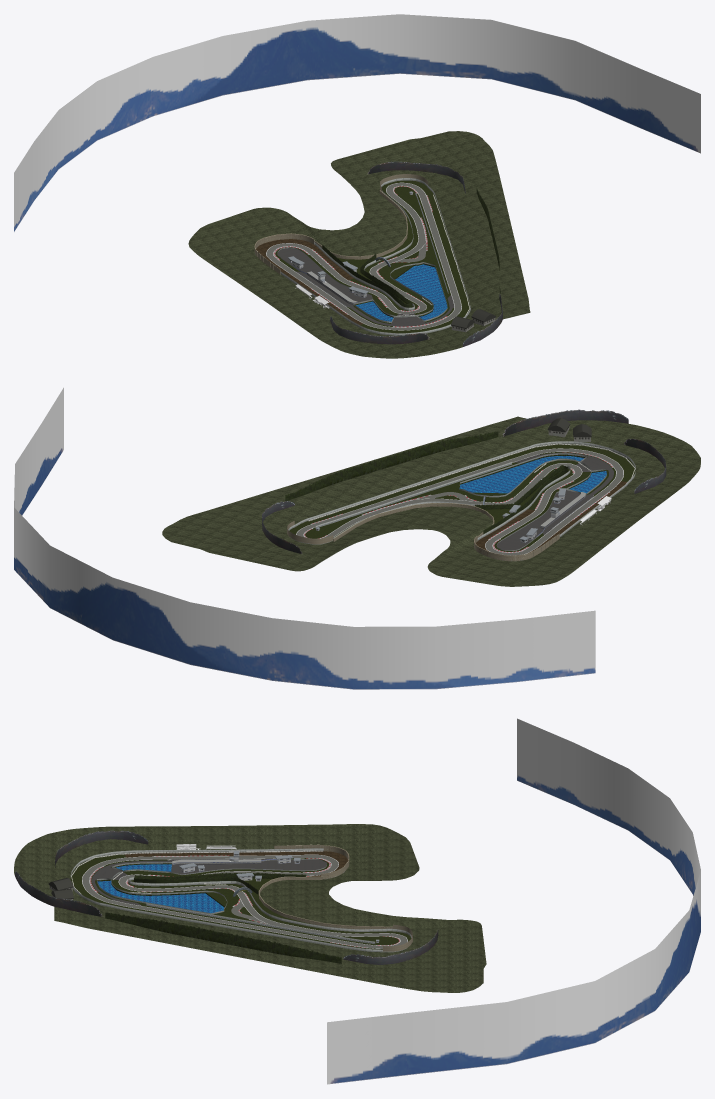
The model's file is TSUKUBATOURING.dae.
3 renders of one model, top to bottom at view 1: azimuth 30°, elevation 25°; view 2: azimuth 150°, elevation 25°; view 3: azimuth 270°, elevation 25°, orthographic. The views are drawn at different scales.
Visible parts, largest first — view 1: Mountain, g.007, g, inner, g.002, bounds, r, bounds.003, Fences, g.012, Mountain.001, g.006 (+4 smaller); view 2: Mountain, g.007, g, inner, g.009, g.002, bounds.003, bounds, Fences, g.008, r, g.006 (+6 smaller); view 3: Mountain, g.007, g, inner, g.009, bounds, Fences, g.002, bounds.003, r, Mountain.002, g.006 (+4 smaller).
Part boxes in pixels (x1,y1,x2,y2): Mountain: [14, 14, 700, 231]; g.007: [188, 131, 530, 358]; g: [275, 180, 470, 333]; inner: [266, 183, 461, 330]; g.002: [356, 264, 447, 321]; bounds: [255, 179, 470, 335]; r: [266, 182, 461, 330]; bounds.003: [254, 174, 428, 274]; Fences: [280, 178, 470, 334]; g.012: [256, 239, 363, 324]; Mountain.001: [330, 316, 432, 344]; g.006: [277, 248, 372, 302]; Mountain: [14, 387, 595, 689]; g.007: [162, 416, 700, 586]; g: [289, 444, 635, 551]; inner: [296, 448, 623, 555]; g.009: [285, 431, 498, 501]; g.002: [459, 456, 606, 493]; bounds.003: [287, 503, 559, 561]; bounds: [289, 443, 635, 560]; Fences: [288, 441, 635, 539]; g.008: [502, 409, 628, 436]; r: [296, 448, 623, 554]; g.006: [497, 490, 580, 550]; Mountain: [327, 718, 700, 1084]; g.007: [14, 824, 486, 992]; g: [70, 854, 411, 949]; inner: [82, 855, 407, 948]; g.009: [105, 912, 341, 963]; bounds: [70, 850, 411, 952]; Fences: [70, 848, 411, 951]; g.002: [97, 864, 224, 913]; bounds.003: [258, 844, 412, 951]; r: [82, 854, 407, 948]; Mountain.002: [134, 872, 306, 894]; g.006: [171, 859, 326, 874].
Size of the model in its own units: 35.45 by 33.87 by 3.39.
Materials: 21 (19 with a texture image).
